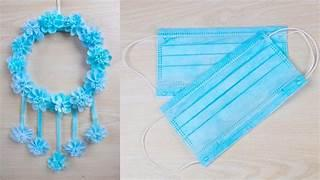Mask: (142, 28, 318, 174), (161, 32, 306, 165), (156, 26, 283, 95)
